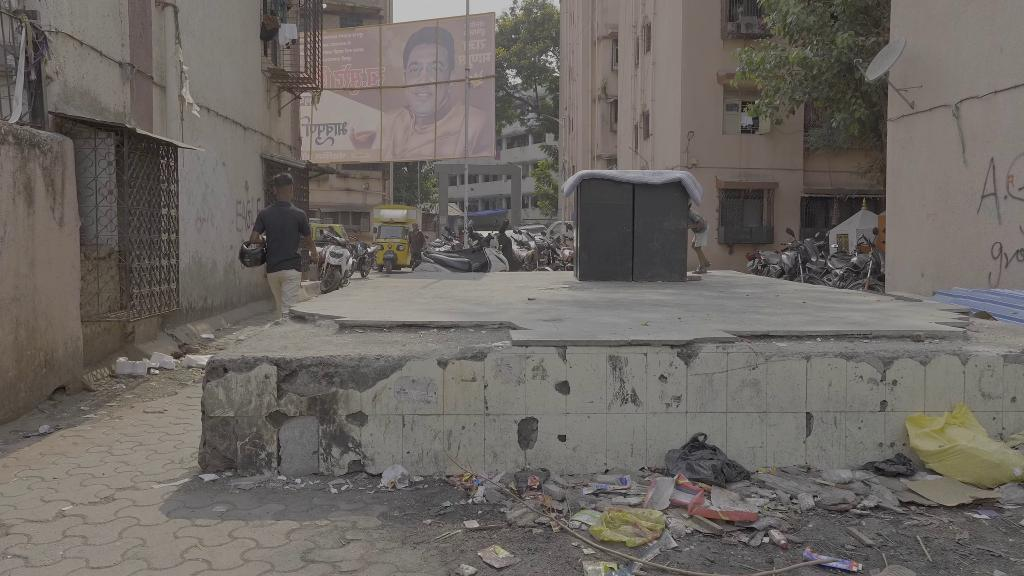garbage: (899, 395, 1024, 492), (657, 431, 761, 490), (571, 503, 671, 544), (797, 539, 873, 574), (110, 350, 158, 377), (375, 464, 421, 491), (765, 524, 795, 551), (149, 346, 177, 371)
